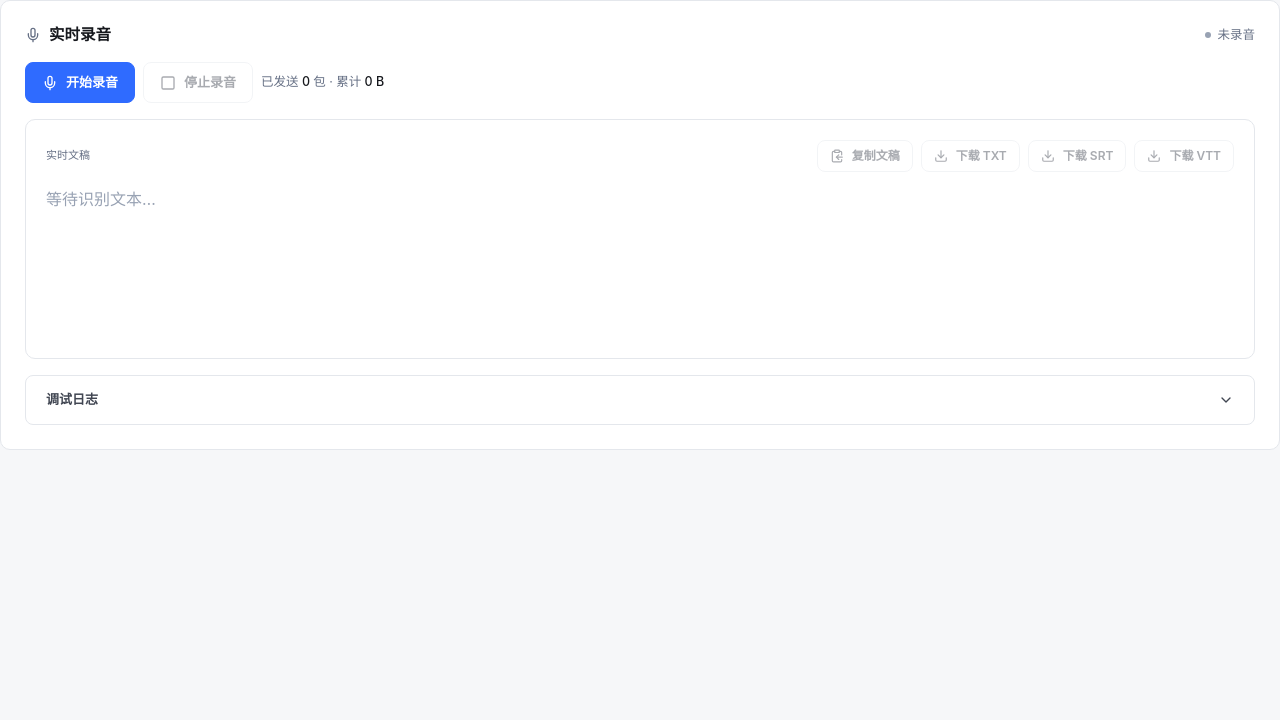
Test: <RealtimeView /> browser recorder › stops the recording on Escape, but not from inside a text field
The width and height of the screenshot is (1280, 720).
Step 1. Click the button "开始录音" → (80, 83), box x1=25 y1=62 x2=135 y2=103
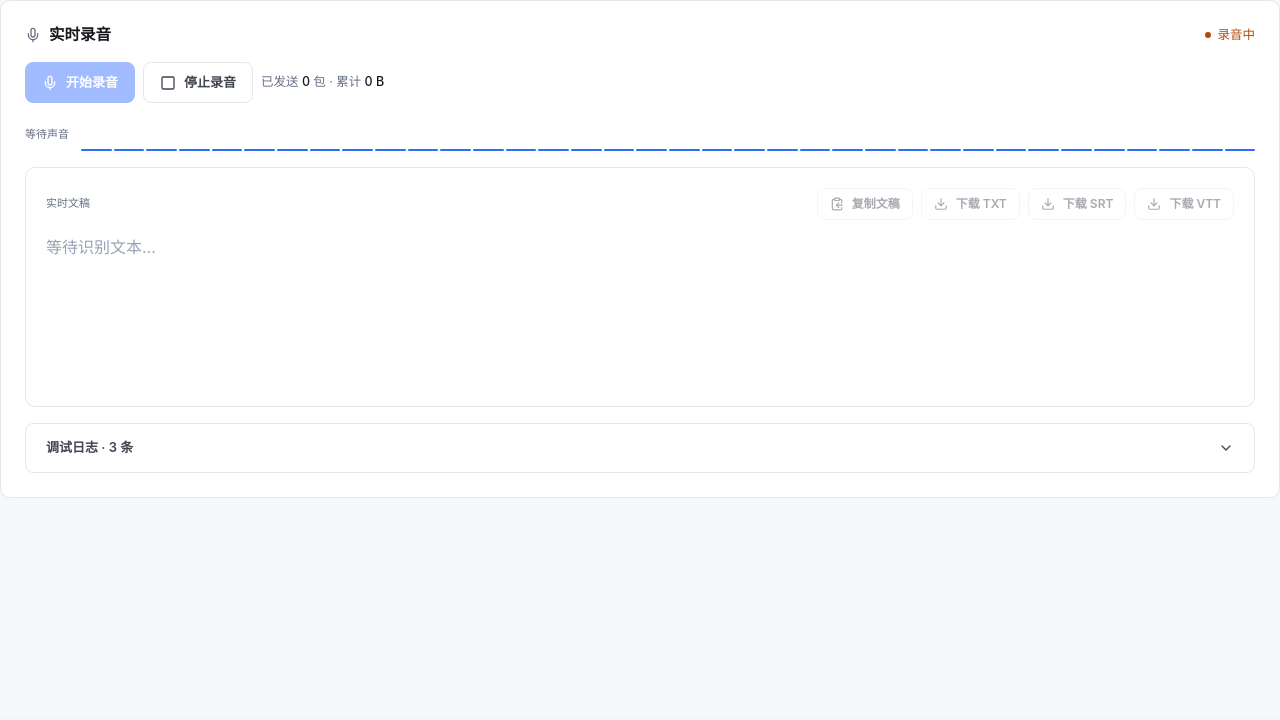
Result: the text "录音中" is shown at x1=1206 y1=26 x2=1255 y2=45
Step 2. Press Escape
Result: the text "录音中" is shown at x1=1206 y1=26 x2=1255 y2=45
# Escape on the page stops the recording and moves it to the final pass.
Step 3. Press Escape
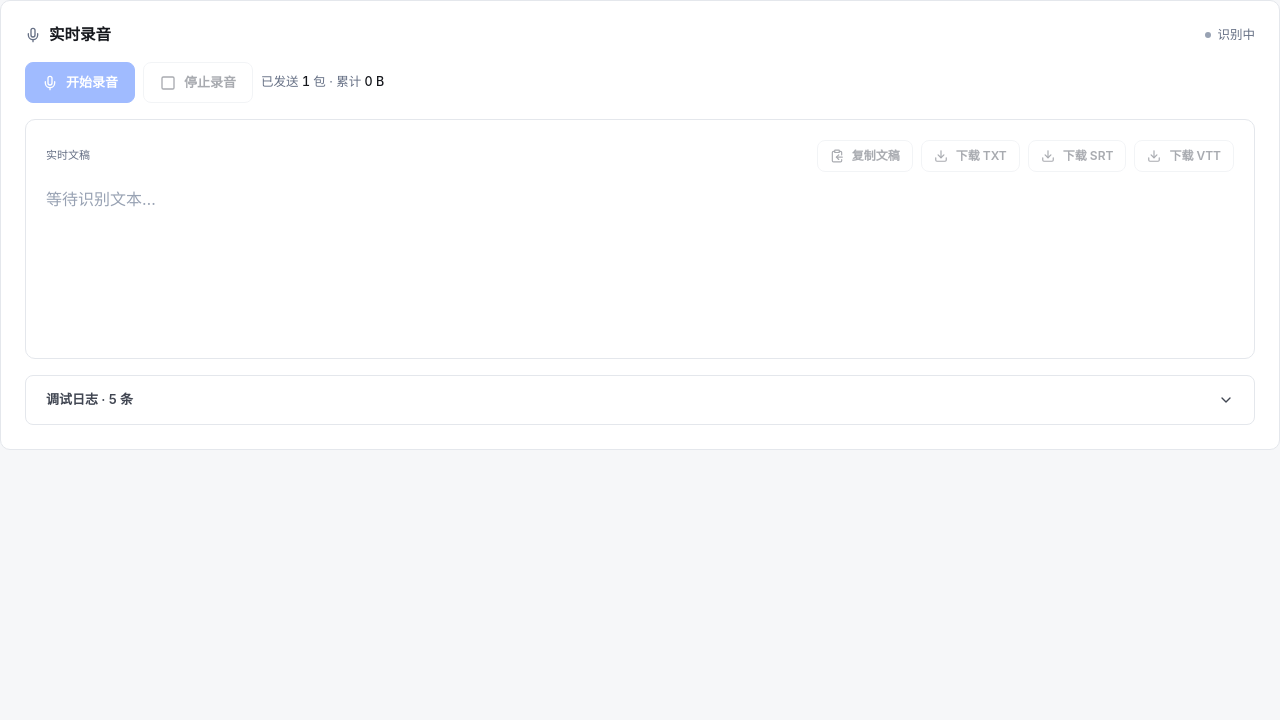
Result: the text "识别中" is shown at x1=1206 y1=26 x2=1255 y2=45
